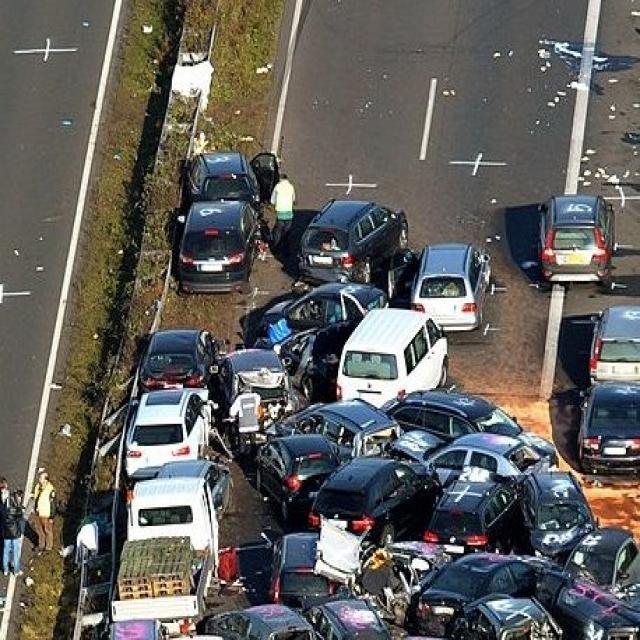traffic_incident: (246, 179, 583, 638)
